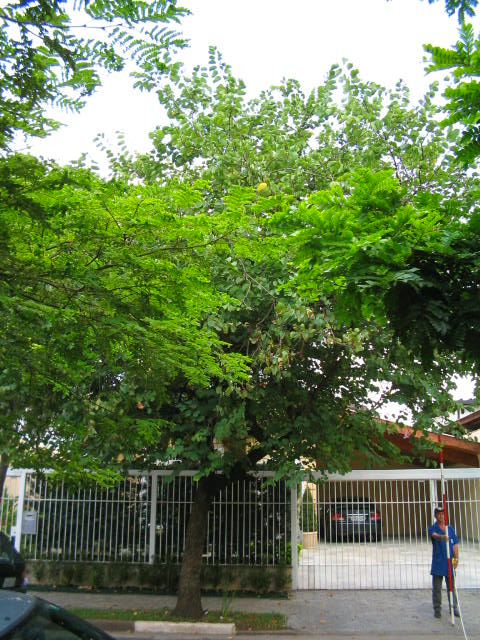stem: (162, 481, 232, 617)
stick: (431, 434, 460, 626)
